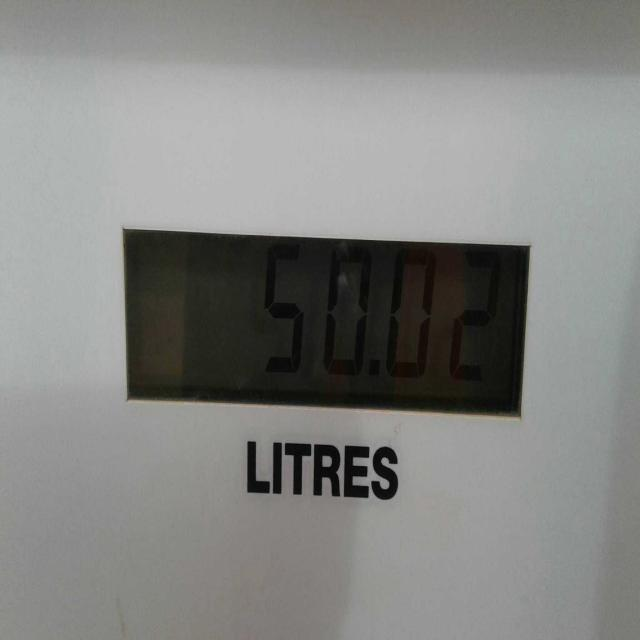.: (366, 348, 386, 392)
0: (320, 240, 373, 388), (385, 241, 438, 389)
2: (449, 244, 509, 396)
5: (258, 236, 314, 388)
